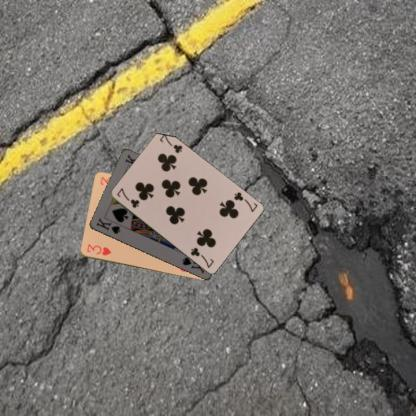3h: (84, 242, 112, 257)
7c: (231, 190, 259, 213), (114, 186, 140, 209)
Ks: (94, 216, 121, 235)
